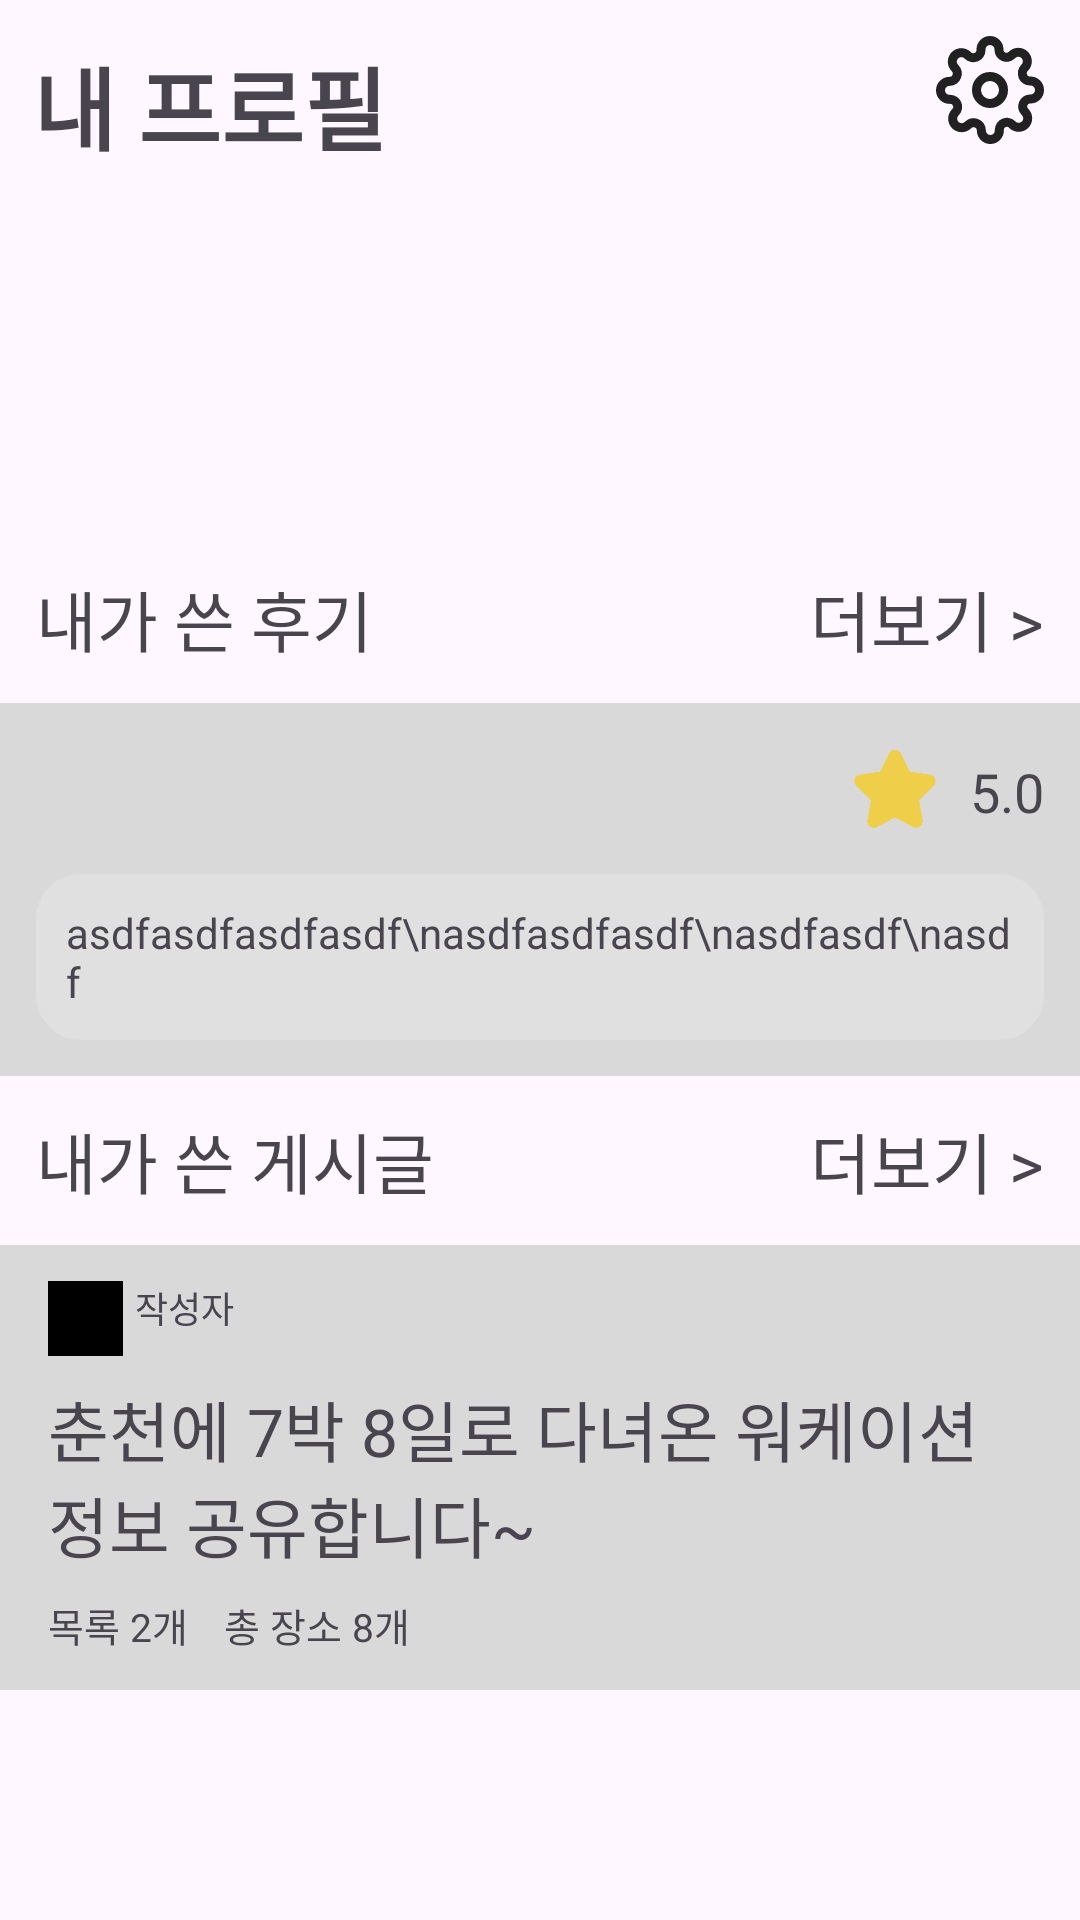

Icons on this 1080*1920 Android screen, each with the point to tap as [x,y]:
review star: [895,789]
settings: [990,90]
